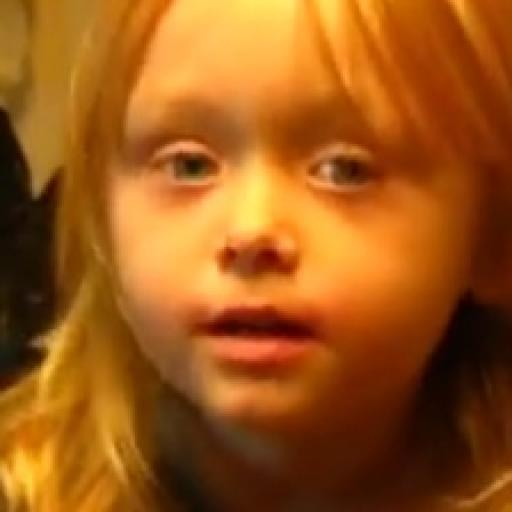Autism: (48, 18, 512, 455)
